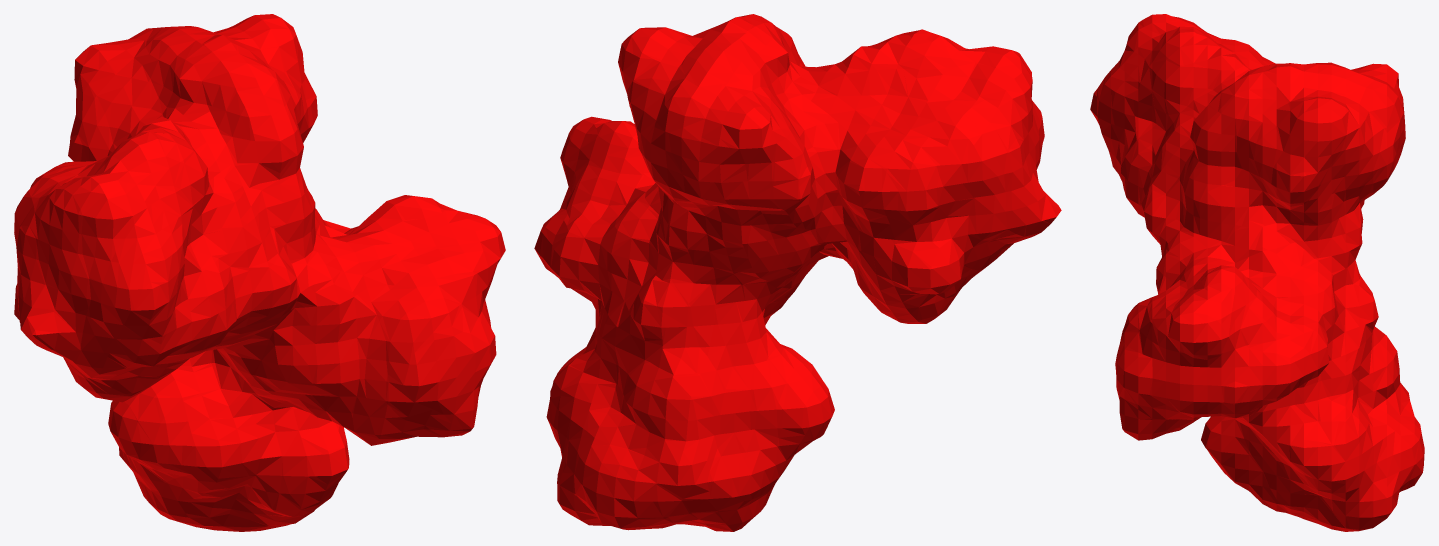
Rendered from rlmM_coarse.dae.
The picture shows the model from 3 angles, left to right: view 1: azimuth 30°, elevation 25°; view 2: azimuth 150°, elevation 25°; view 3: azimuth 270°, elevation 25°; orthographic projection. The views are drawn at different scales.
Visible parts, largest first — view 1: rlmM; view 2: rlmM; view 3: rlmM.
Part boxes in pixels (x1,y1,x2,y2): rlmM: (14,14,505,531); rlmM: (534,14,1061,531); rlmM: (1090,14,1424,531).
Bounding box in the file's own units: 92.94 × 92.89 × 65.46.
